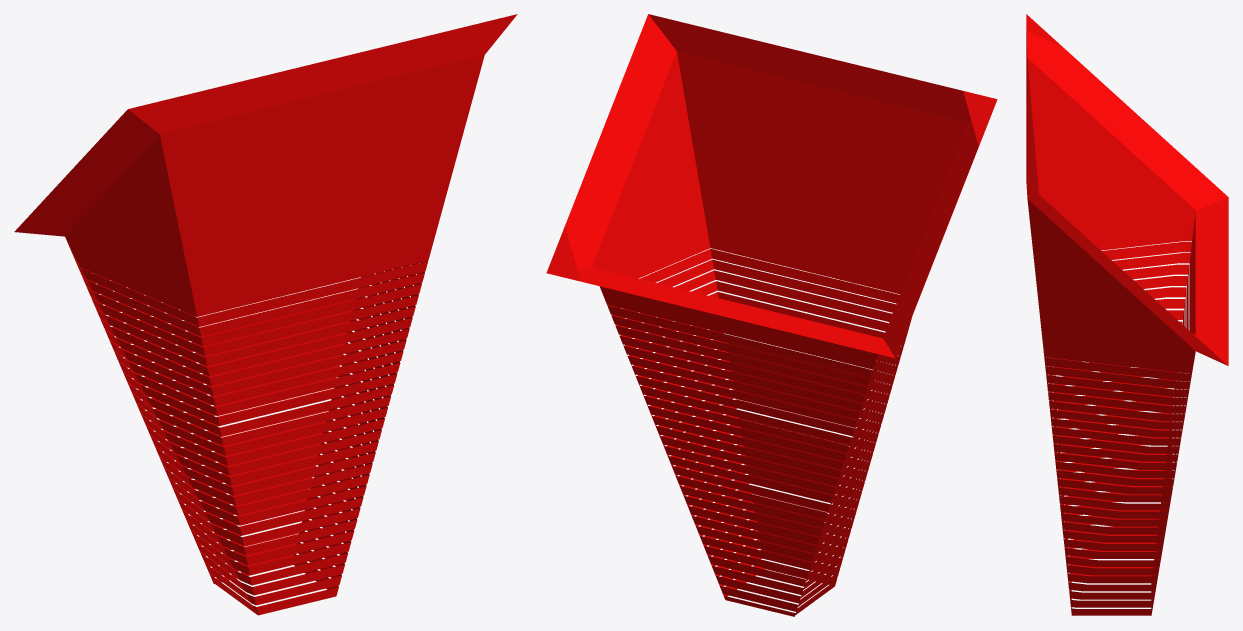
Rendered from SM_Station_SignMaya.fbx.
3 renders of one model, left to right at view 1: azimuth 30°, elevation 25°; view 2: azimuth 150°, elevation 25°; view 3: azimuth 270°, elevation 25°, orthographic. The views are drawn at different scales.
Visible parts, largest first — view 1: Cube, pasted__Cube; view 2: Cube, pasted__Cube; view 3: Cube, pasted__Cube.
Part boxes in pixels (bbox=[...]): Cube: bbox=[14, 14, 516, 615]; pasted__Cube: bbox=[17, 14, 517, 613]; Cube: bbox=[546, 14, 997, 616]; pasted__Cube: bbox=[547, 15, 995, 615]; Cube: bbox=[1026, 14, 1228, 615]; pasted__Cube: bbox=[1026, 16, 1228, 615].
Bounding box in the file's own units: 90.72 × 126 × 45.82.
Materials: 1 (1 with a texture image).
